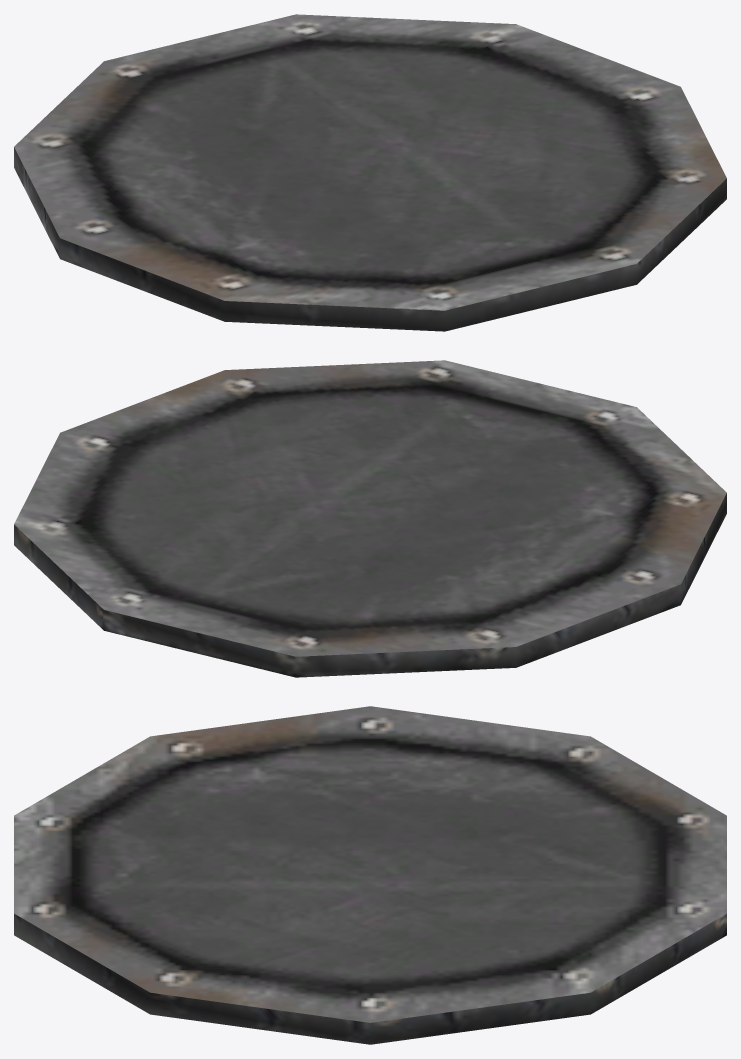
File: msi.glb
The picture shows the model from 3 angles, top to bottom: view 1: azimuth 30°, elevation 25°; view 2: azimuth 150°, elevation 25°; view 3: azimuth 270°, elevation 25°; orthographic projection. The views are drawn at different scales.
Parts seen in each view (by area): view 1: msi-col; view 2: msi-col; view 3: msi-col.
Boxes of the visible parts, x1,y1,x2,y2 form: msi-col: (14, 14, 726, 331); msi-col: (14, 360, 726, 677); msi-col: (14, 706, 726, 1044).
Size of the model in its own units: 0.5224 by 0.0786 by 0.4968.
1 material, 1 textured.
